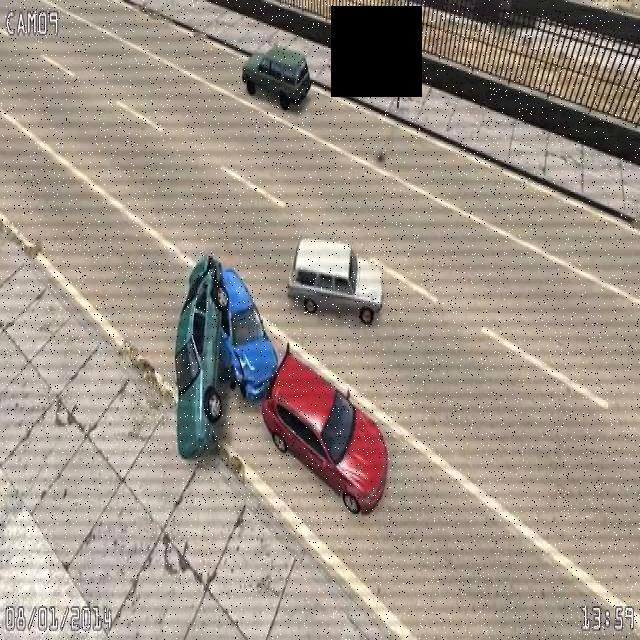vehicle: (160, 246, 293, 462)
